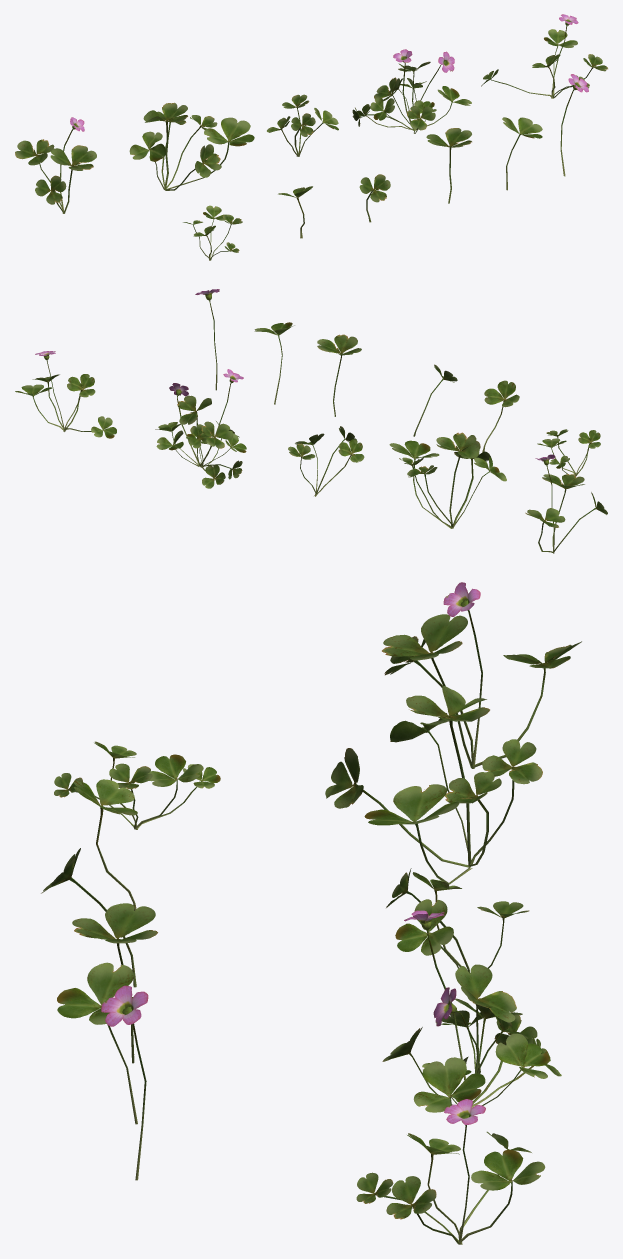
File: sorrel.jpg-B7WCtero.glb
3 views of the same model, one above another, from view 1: azimuth 30°, elevation 25°; view 2: azimuth 150°, elevation 25°; view 3: azimuth 270°, elevation 25° (orthographic). The views are drawn at different scales.
Parts seen in each view (by area): view 1: shrub_sorrel_01_b, shrub_sorrel_01_d, shrub_sorrel_01_a, shrub_sorrel_01_e, shrub_sorrel_01_c, shrub_sorrel_01_f, shrub_sorrel_01_i, shrub_sorrel_01_h, shrub_sorrel_01_j, shrub_sorrel_01_k; view 2: shrub_sorrel_01_d, shrub_sorrel_01_b, shrub_sorrel_01_e, shrub_sorrel_01_a, shrub_sorrel_01_c, shrub_sorrel_01_f, shrub_sorrel_01_i, shrub_sorrel_01_g, shrub_sorrel_01_j; view 3: shrub_sorrel_01_b, shrub_sorrel_01_d, shrub_sorrel_01_e, shrub_sorrel_01_a, shrub_sorrel_01_f, shrub_sorrel_01_c, shrub_sorrel_01_j, shrub_sorrel_01_i, shrub_sorrel_01_k, shrub_sorrel_01_g.
Part boxes in pixels (x1,y1,x2,y2): shrub_sorrel_01_b: [129, 102, 254, 190]; shrub_sorrel_01_d: [352, 49, 471, 133]; shrub_sorrel_01_a: [15, 117, 96, 213]; shrub_sorrel_01_e: [481, 14, 607, 98]; shrub_sorrel_01_c: [267, 94, 338, 156]; shrub_sorrel_01_f: [183, 205, 242, 260]; shrub_sorrel_01_i: [426, 128, 471, 203]; shrub_sorrel_01_h: [359, 174, 390, 222]; shrub_sorrel_01_j: [502, 117, 542, 190]; shrub_sorrel_01_k: [560, 74, 588, 176]; shrub_sorrel_01_d: [155, 369, 246, 488]; shrub_sorrel_01_b: [389, 432, 506, 528]; shrub_sorrel_01_e: [15, 351, 116, 438]; shrub_sorrel_01_a: [525, 454, 607, 553]; shrub_sorrel_01_c: [288, 426, 364, 496]; shrub_sorrel_01_f: [537, 429, 600, 476]; shrub_sorrel_01_i: [317, 334, 361, 416]; shrub_sorrel_01_g: [482, 380, 519, 452]; shrub_sorrel_01_j: [254, 322, 294, 404]; shrub_sorrel_01_b: [325, 686, 542, 884]; shrub_sorrel_01_d: [382, 910, 561, 1112]; shrub_sorrel_01_e: [356, 1099, 545, 1244]; shrub_sorrel_01_a: [382, 582, 581, 768]; shrub_sorrel_01_f: [54, 741, 220, 829]; shrub_sorrel_01_c: [386, 868, 529, 973]; shrub_sorrel_01_j: [57, 962, 137, 1124]; shrub_sorrel_01_i: [72, 903, 157, 1063]; shrub_sorrel_01_k: [101, 985, 148, 1180]; shrub_sorrel_01_g: [73, 779, 137, 910].
Size of the model in its own units: 0.3521 by 0.058 by 0.1464.
Materials: 1 (1 with a texture image).
